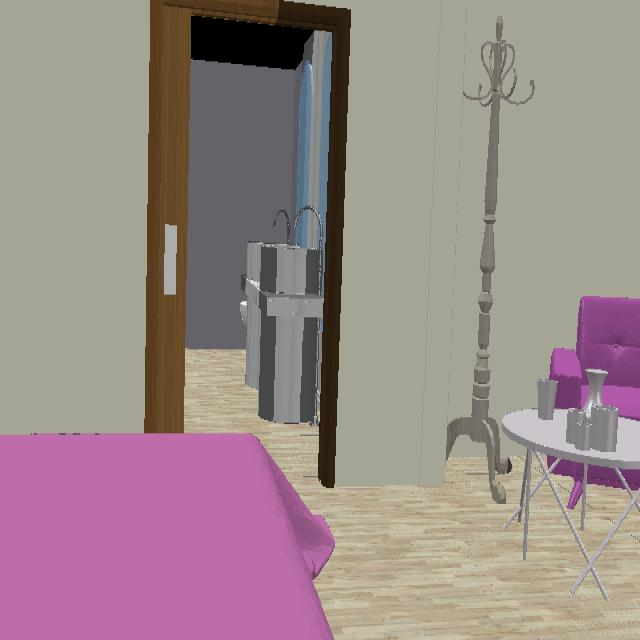bed: (0, 433, 335, 640)
sofa: (549, 296, 640, 424)
table: (502, 407, 640, 600)
washbasin: (242, 243, 323, 423)
